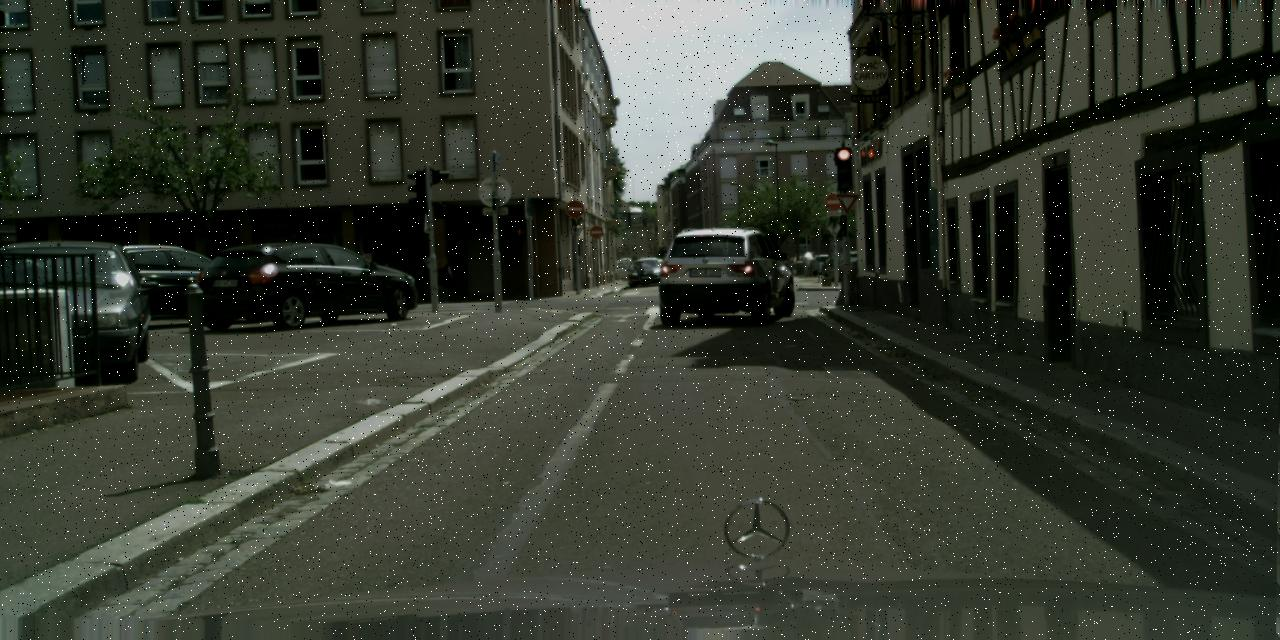ped: (436, 257, 454, 302)
